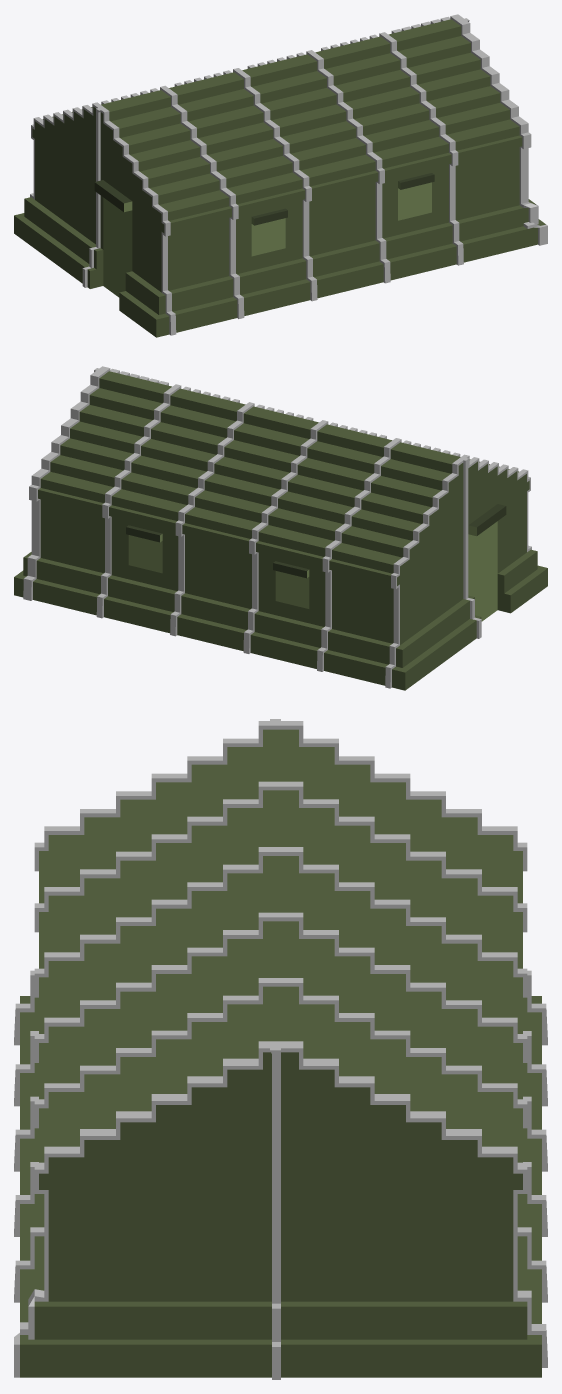
File: militaryTent.fbx
The picture shows the model from 3 angles, top to bottom: view 1: azimuth 30°, elevation 25°; view 2: azimuth 150°, elevation 25°; view 3: azimuth 270°, elevation 25°; orthographic projection. The views are drawn at different scales.
Parts seen in each view (by area): view 1: militaryTent_main, militaryTent_door, militaryTent_windowR1, militaryTent_windowR2, militaryTent_doorHold; view 2: militaryTent_main, militaryTent_door, militaryTent_windowL2, militaryTent_windowL1, militaryTent_doorHold; view 3: militaryTent_main.
Boxes of the visible parts, x1,y1,x2,y2 form: militaryTent_main: [14, 14, 547, 337]; militaryTent_door: [103, 197, 132, 297]; militaryTent_windowR1: [251, 218, 285, 256]; militaryTent_windowR2: [398, 182, 431, 220]; militaryTent_doorHold: [94, 180, 132, 212]; militaryTent_main: [14, 366, 547, 690]; militaryTent_door: [468, 521, 497, 621]; militaryTent_windowL2: [128, 535, 162, 573]; militaryTent_windowL1: [275, 571, 309, 608]; militaryTent_doorHold: [468, 504, 506, 536]; militaryTent_main: [14, 719, 547, 1379].
Bounding box in the file's own units: 1187 × 501 × 759.
